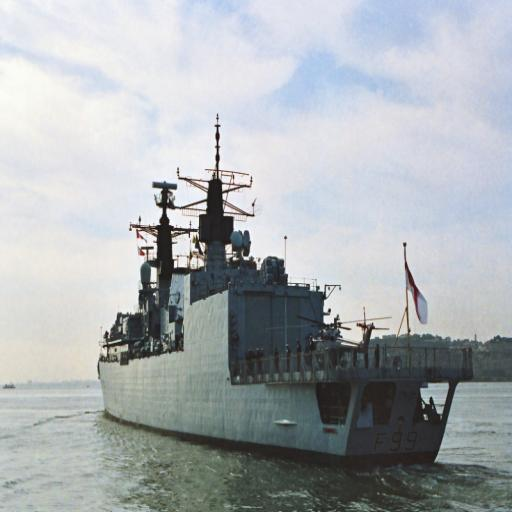Fragata: (93, 91, 473, 474)
